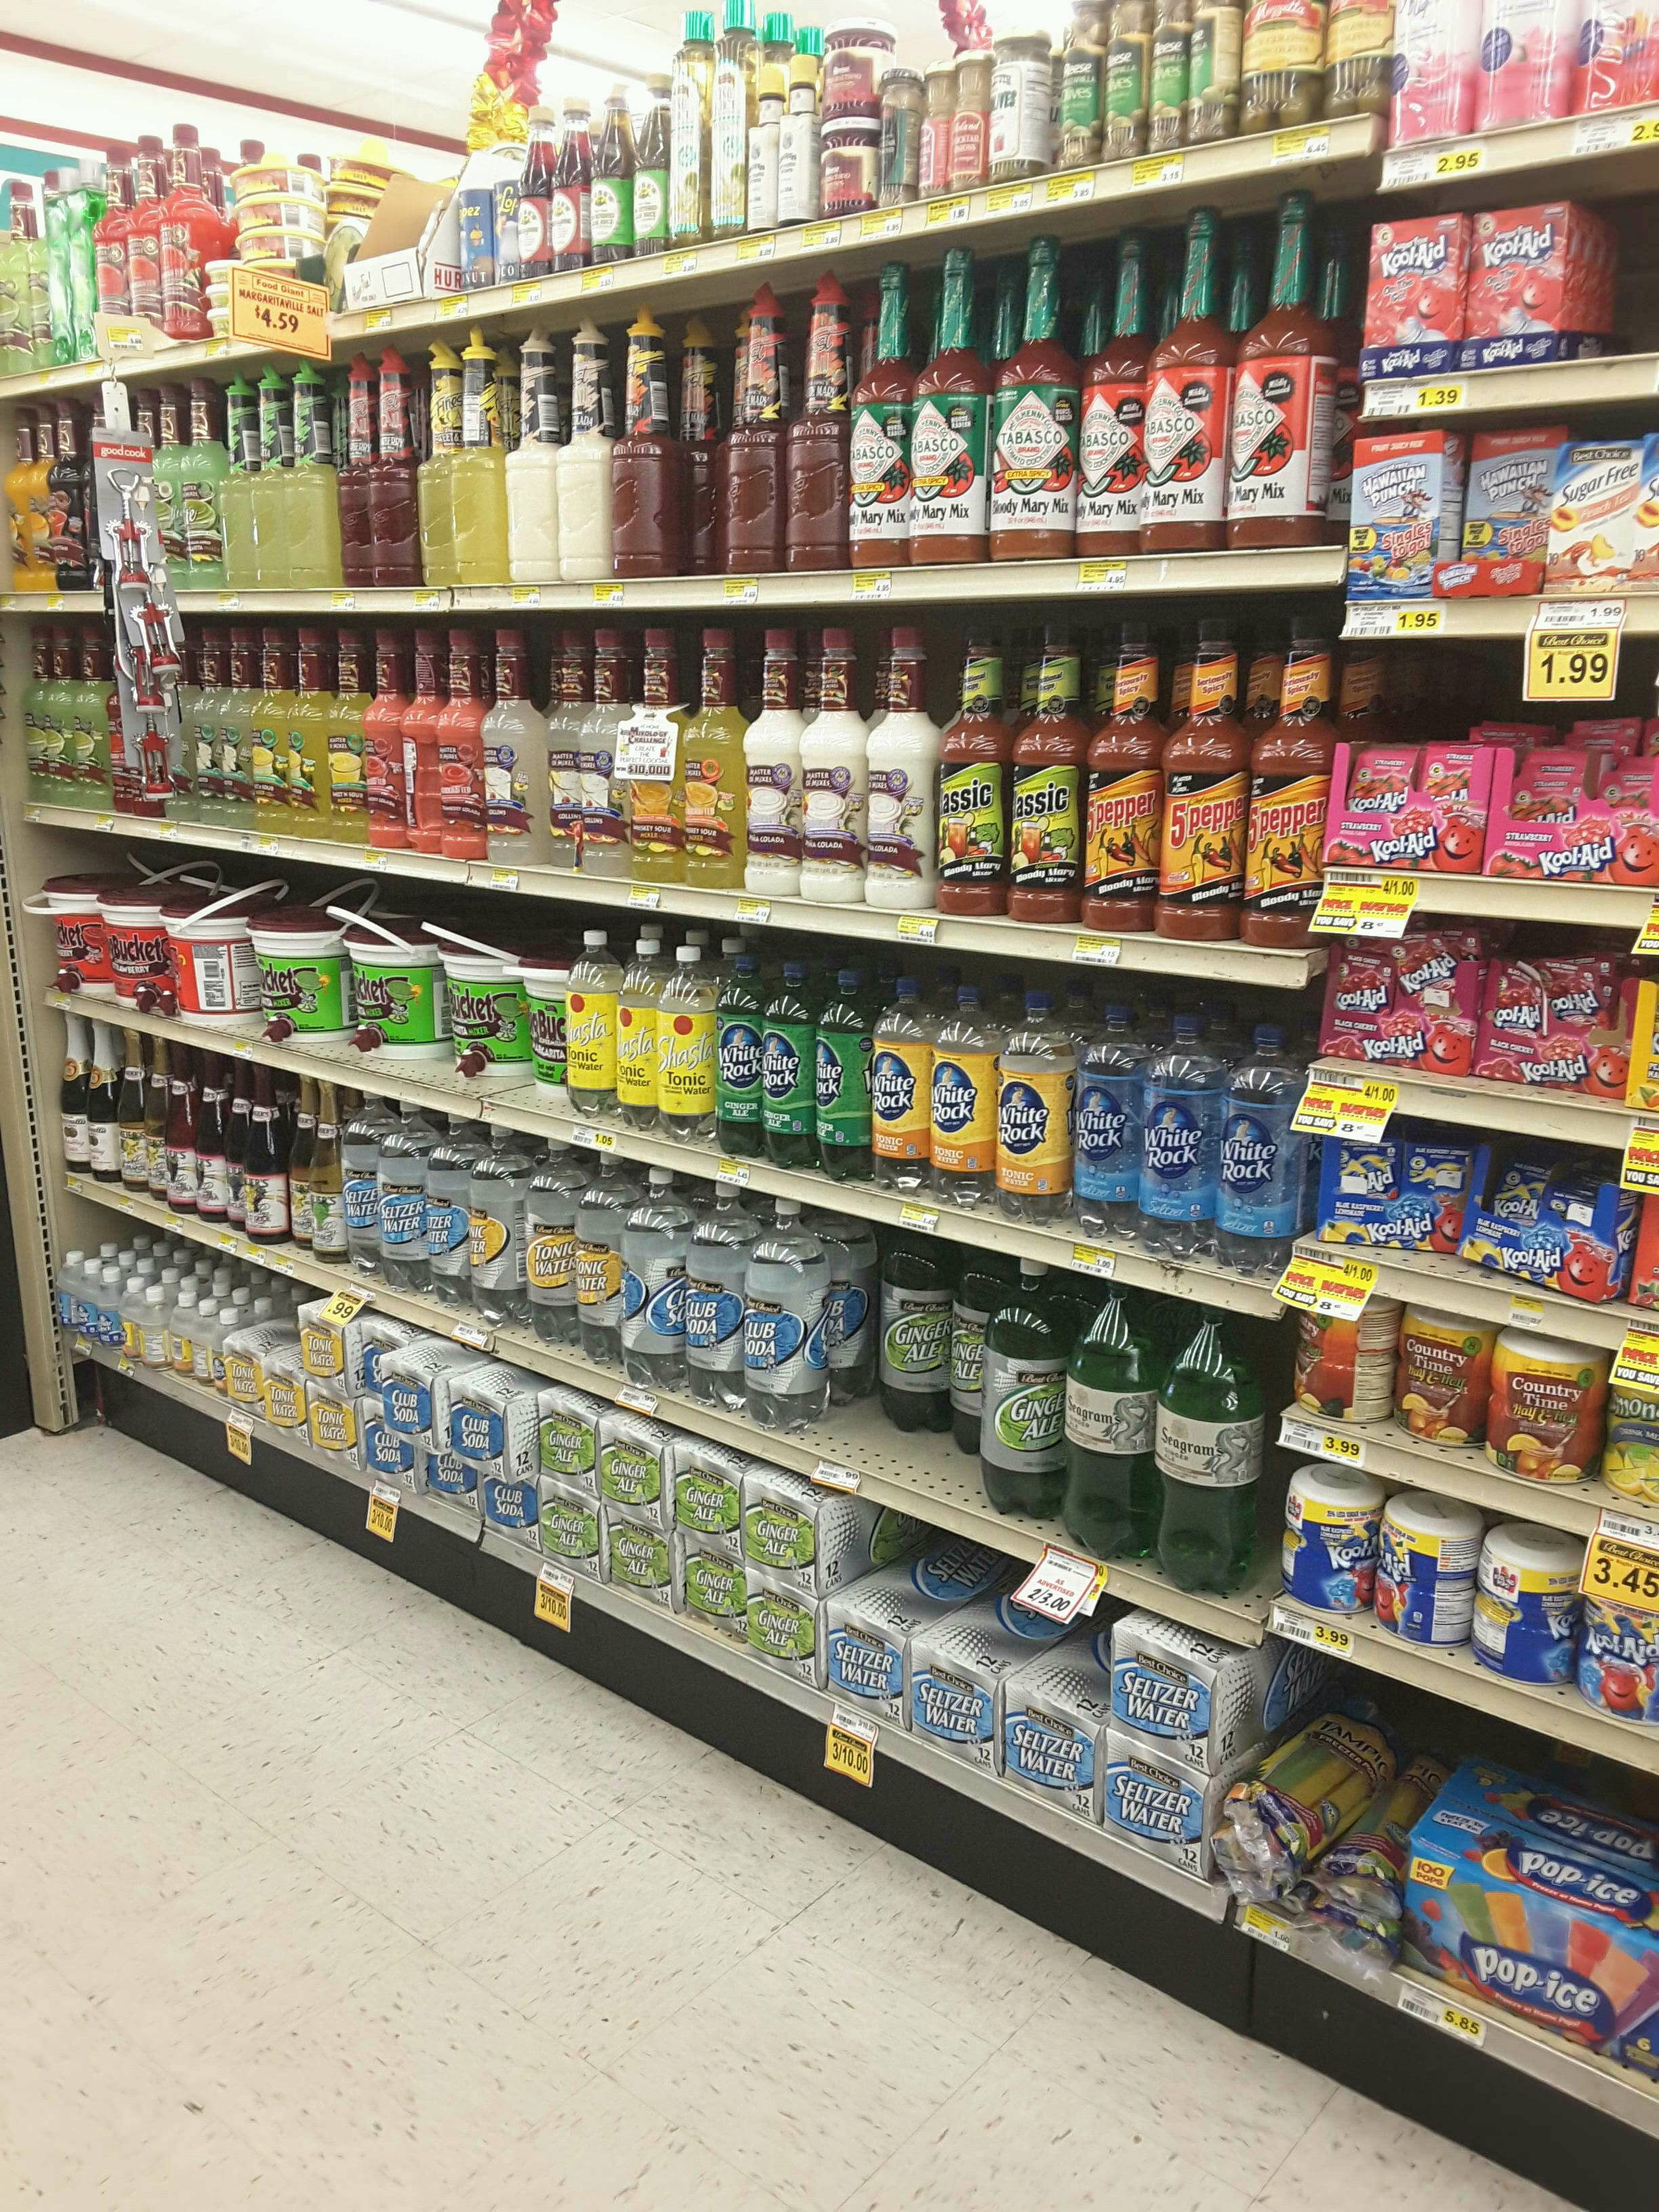Misplacement: (788, 1205, 979, 1507)
